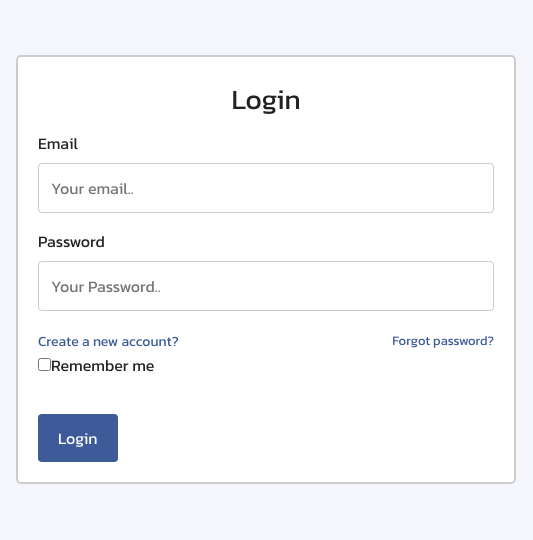
Test: Login - server interaction › shows server error on failed login
The image size is (533, 540).
In the field with placeholder "Your email..": (266, 188) [38,163,494,213], type "user@test.com"
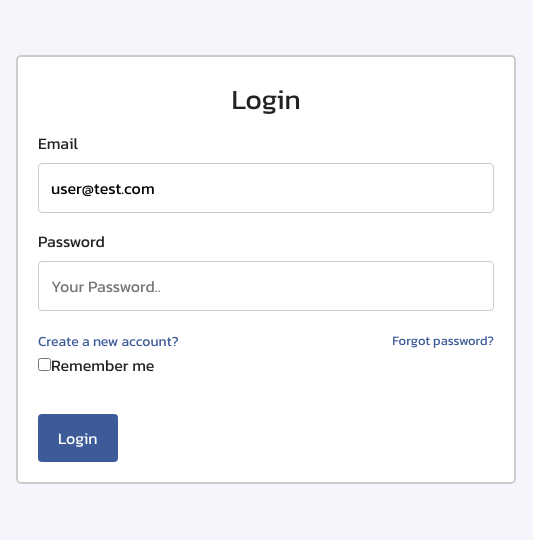
In the password field with placeholder "Your Password..": (266, 286) [38,260,494,310], type "password123"
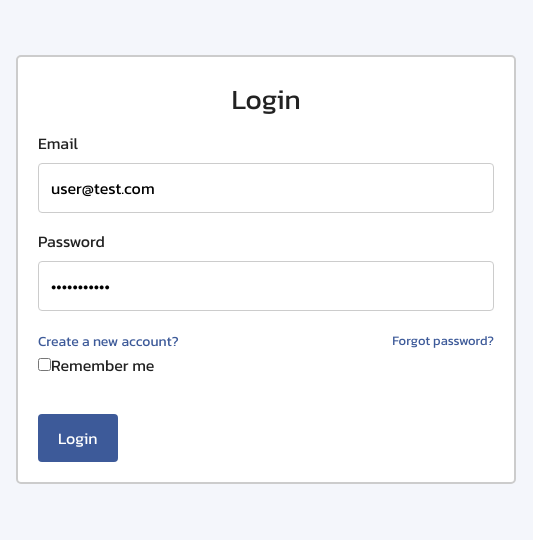
Click the button showing "Login": click(78, 438) [38,414,118,462]
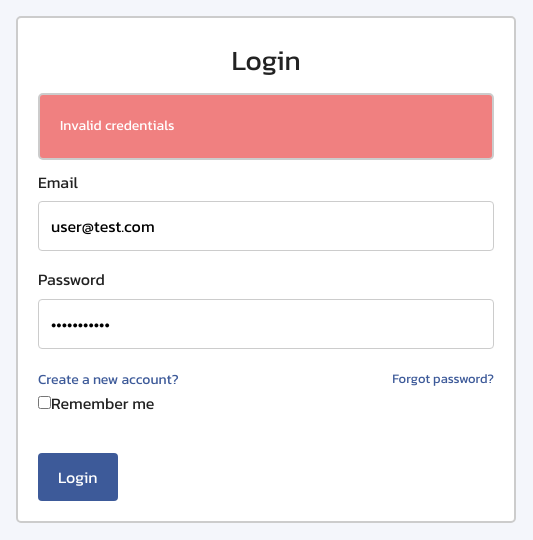
Expected: the text "Invalid credentials" is shown, [38,93,494,160]
